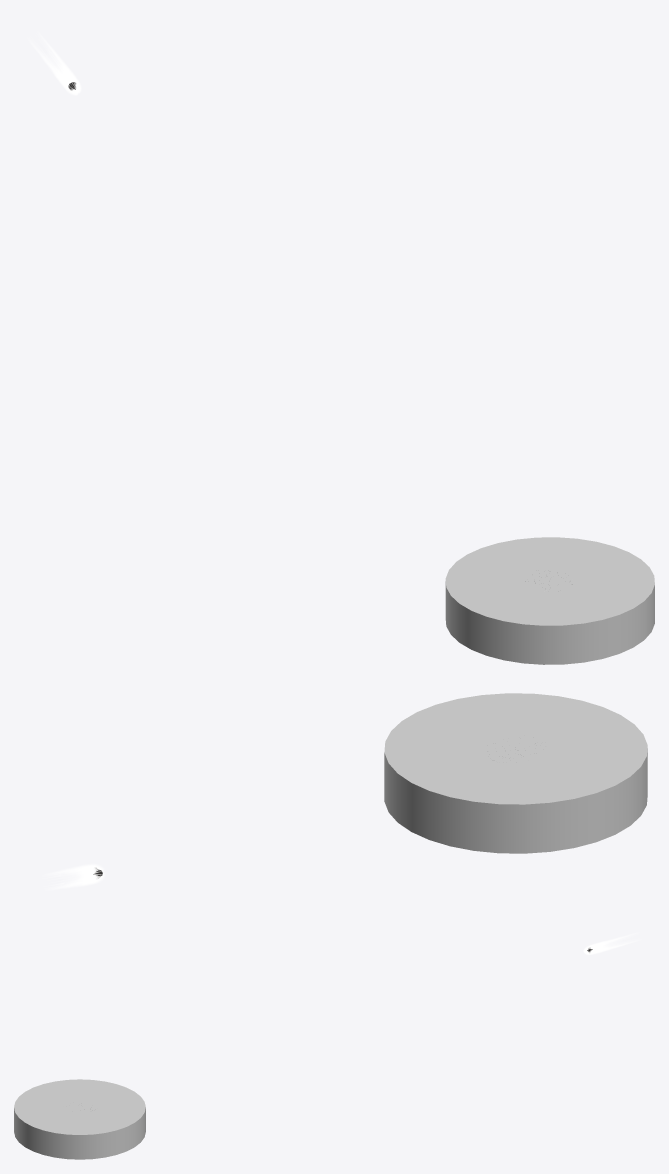
File: meteor.glb
3 views of the same model, one above another, from view 1: azimuth 30°, elevation 25°; view 2: azimuth 150°, elevation 25°; view 3: azimuth 270°, elevation 25° (orthographic). The views are drawn at different scales.
Parts seen in each view (by area): view 1: Ground, Trail; view 2: Ground, Trail; view 3: Ground, Trail.
Boxes of the visible parts, box(x1,y1,x2,y2) form: Ground: box(445, 537, 654, 664); Trail: box(29, 33, 81, 95); Ground: box(384, 693, 647, 853); Trail: box(45, 864, 105, 889); Ground: box(14, 1079, 145, 1159); Trail: box(583, 933, 638, 954).
Bounding box in the file's own units: 46.55 × 71.27 × 226.
3 materials, 2 textured.
